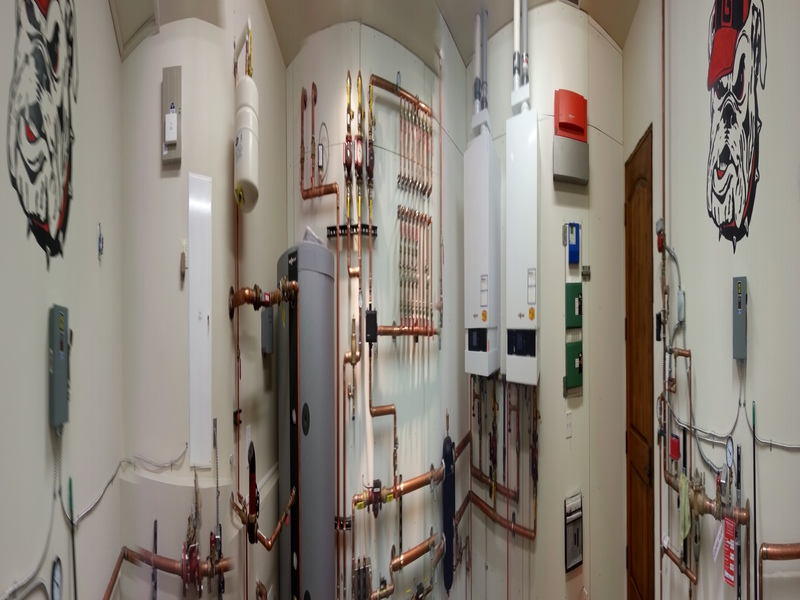valve: (354, 72, 367, 131), (346, 494, 372, 514), (363, 80, 376, 118), (380, 487, 405, 506), (364, 192, 376, 223), (342, 76, 348, 131), (341, 192, 352, 220), (354, 188, 363, 221)
